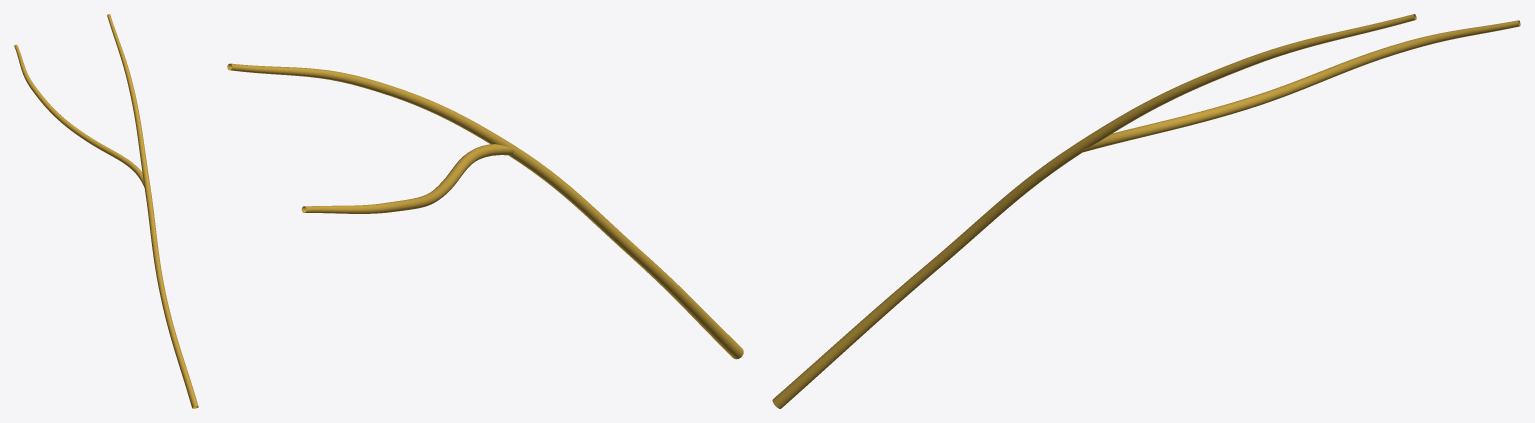
3 renders of one model, left to right at view 1: azimuth 30°, elevation 25°; view 2: azimuth 150°, elevation 25°; view 3: azimuth 270°, elevation 25°, orthographic. The views are drawn at different scales.
Parts seen in each view (by area): view 1: 右侧肩胛下神经下支; view 2: 右侧肩胛下神经下支; view 3: 右侧肩胛下神经下支.
Boxes of the visible parts, left/top/right/bottom form: 右侧肩胛下神经下支: left=14, top=14, right=198, bottom=408; 右侧肩胛下神经下支: left=227, top=63, right=743, bottom=359; 右侧肩胛下神经下支: left=772, top=14, right=1520, bottom=408.
Size of the model in its own units: 0.0355 by 0.0967 by 0.1395.
